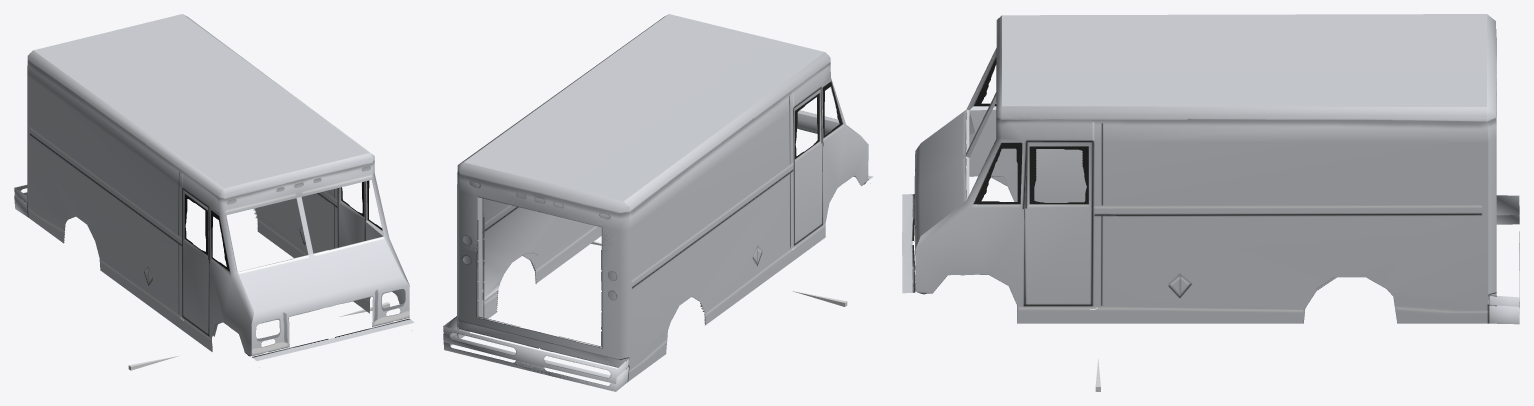
Rendered from Stepvan.FBX.
3 views of the same model, side by side, from view 1: azimuth 30°, elevation 25°; view 2: azimuth 150°, elevation 25°; view 3: azimuth 270°, elevation 25° (orthographic). The views are drawn at different scales.
Visible parts, largest first — view 1: Stepvan1BodyLores, Stepvan2BodyWindowed, Stepvan3BodyDoorCut, DoorR, DoorL; view 2: Stepvan2BodyWindowed, Stepvan1BodyLores, Stepvan3BodyDoorCut, DoorR; view 3: Stepvan1BodyLores, Stepvan2BodyWindowed, DoorL, DoorR, Stepvan3BodyDoorCut.
Part boxes in pixels (x1=…): Stepvan1BodyLores: x1=14, y1=15, x2=413, y2=360; Stepvan2BodyWindowed: x1=14, y1=14, x2=414, y2=367; Stepvan3BodyDoorCut: x1=208, y1=181, x2=382, y2=332; DoorR: x1=183, y1=190, x2=209, y2=330; DoorL: x1=339, y1=201, x2=364, y2=244; Stepvan2BodyWindowed: x1=443, y1=14, x2=839, y2=391; Stepvan1BodyLores: x1=443, y1=26, x2=873, y2=383; Stepvan3BodyDoorCut: x1=446, y1=88, x2=846, y2=389; DoorR: x1=795, y1=91, x2=822, y2=217; Stepvan1BodyLores: x1=902, y1=14, x2=1519, y2=314; Stepvan2BodyWindowed: x1=902, y1=14, x2=1519, y2=324; DoorL: x1=1024, y1=144, x2=1089, y2=298; DoorR: x1=1034, y1=149, x2=1086, y2=202; Stepvan3BodyDoorCut: x1=969, y1=109, x2=1027, y2=236.
Size of what is drawn, in the model's own units: 352 by 254 by 567.
